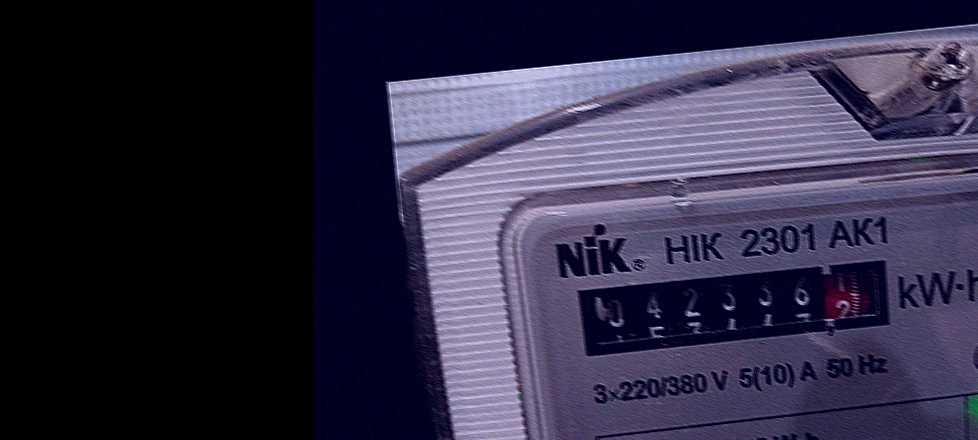0: (605, 296, 627, 330)
1: (833, 268, 847, 295)
2: (680, 284, 704, 320), (833, 298, 852, 321)
3: (717, 280, 738, 313), (755, 276, 775, 309)
4: (644, 288, 664, 321)
6: (790, 274, 814, 310)
screen: (565, 245, 907, 369)
